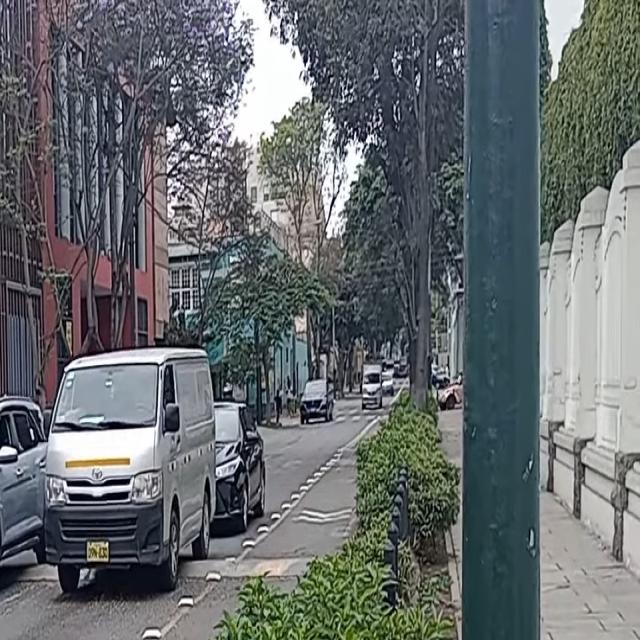car: (45, 347, 216, 595), (0, 397, 50, 596), (209, 400, 266, 528), (301, 376, 334, 421), (361, 362, 381, 405), (381, 367, 395, 395)
